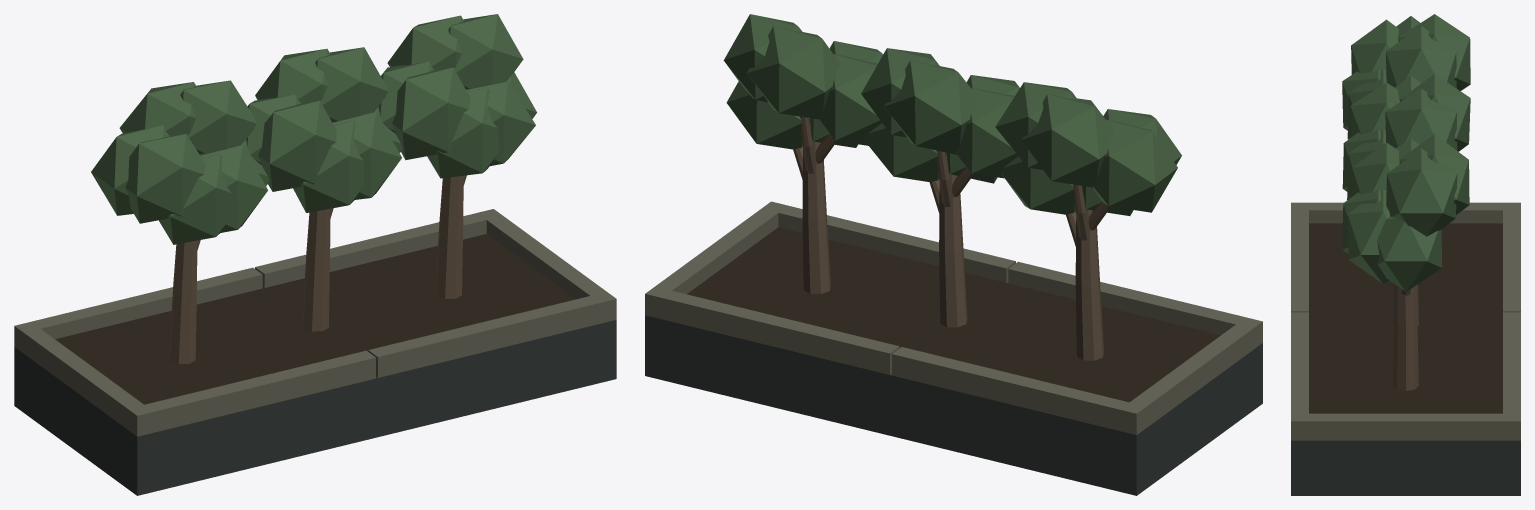
File: signature-garden.glb
3 renders of one model, left to right at view 1: azimuth 30°, elevation 25°; view 2: azimuth 150°, elevation 25°; view 3: azimuth 270°, elevation 25°, orthographic. The views are drawn at different scales.
Visible parts, largest first — view 1: bed_support, soil, rim_long_1_0, rim_long_1_1, tree2_crown4, tree0_crown4, tree1_crown4, rim_long_0_0, rim_long_0_1, rim_end_0, tree2_crown6, tree0_crown6 (+17 smaller); view 2: bed_support, soil, rim_long_0_0, rim_long_0_1, tree0_crown1, tree2_crown1, tree1_crown1, rim_long_1_0, tree0_crown2, rim_long_1_1, rim_end_0, tree2_crown2 (+14 smaller); view 3: soil, bed_support, rim_end_1, tree2_crown6, tree2_crown0, tree1_crown6, tree0_crown6, tree2_trunk, tree2_crown5, rim_long_0_1, rim_long_1_1, rim_long_0_0 (+14 smaller).
Boxes of the visible parts, x1,y1,x2,y2 form: bed_support: (14,320,616,495); soil: (55,234,575,404); rim_long_1_0: (127,350,375,436); rim_long_1_1: (368,292,616,377); tree2_crown4: (392,67,470,160); tree0_crown4: (125,134,205,223); tree1_crown4: (258,100,336,191); rim_long_0_0: (14,267,262,353); rim_long_0_1: (255,209,502,288); rim_end_0: (24,329,143,429); tree2_crown6: (448,14,523,89); tree0_crown6: (180,80,256,154); bed_support: (645,315,1262,495); soil: (687,227,1220,402); rim_long_0_0: (892,347,1146,435); rim_long_0_1: (645,286,899,374); tree0_crown1: (1021,94,1113,187); tree2_crown1: (746,26,840,119); tree1_crown1: (884,60,978,154); rim_long_1_0: (1008,261,1262,349); tree0_crown2: (1092,119,1177,212); rim_long_1_1: (762,201,1015,282); rim_end_0: (1130,324,1252,427); tree2_crown2: (818,54,881,145); soil: (1309,223,1502,413); bed_support: (1291,440,1520,495); rim_end_1: (1309,413,1502,440); tree2_crown6: (1386,148,1457,236); tree2_crown0: (1377,216,1441,291); tree1_crown6: (1385,88,1457,150); tree0_crown6: (1386,25,1456,88); tree2_trunk: (1393,284,1418,390); tree2_crown5: (1347,189,1390,283); rim_long_0_1: (1503,312,1520,440); rim_long_1_1: (1291,312,1308,440); rim_long_0_0: (1503,202,1520,312).
Size of the model in its own units: 4.5 by 2.93 by 2.
